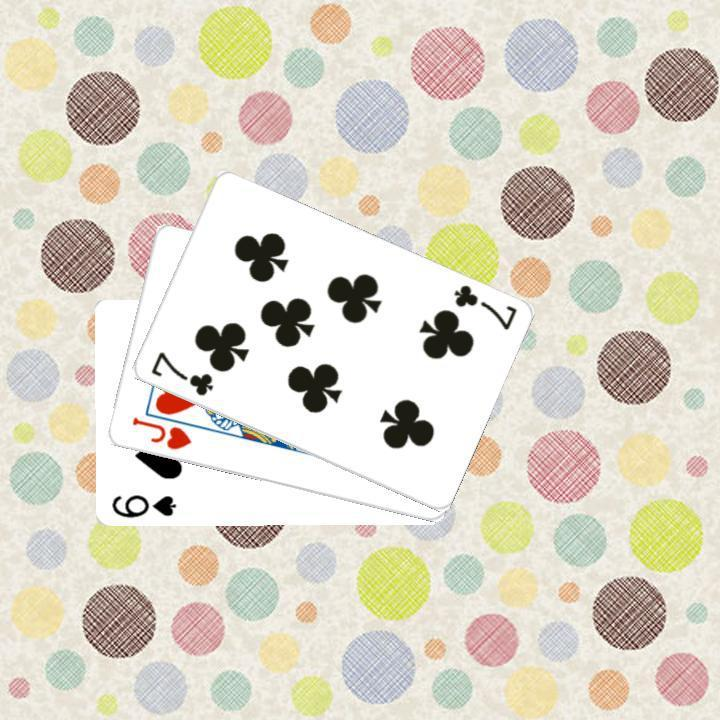6: (107, 491, 178, 520)
7: (448, 280, 519, 333), (146, 347, 215, 398)
J: (127, 413, 193, 452)
